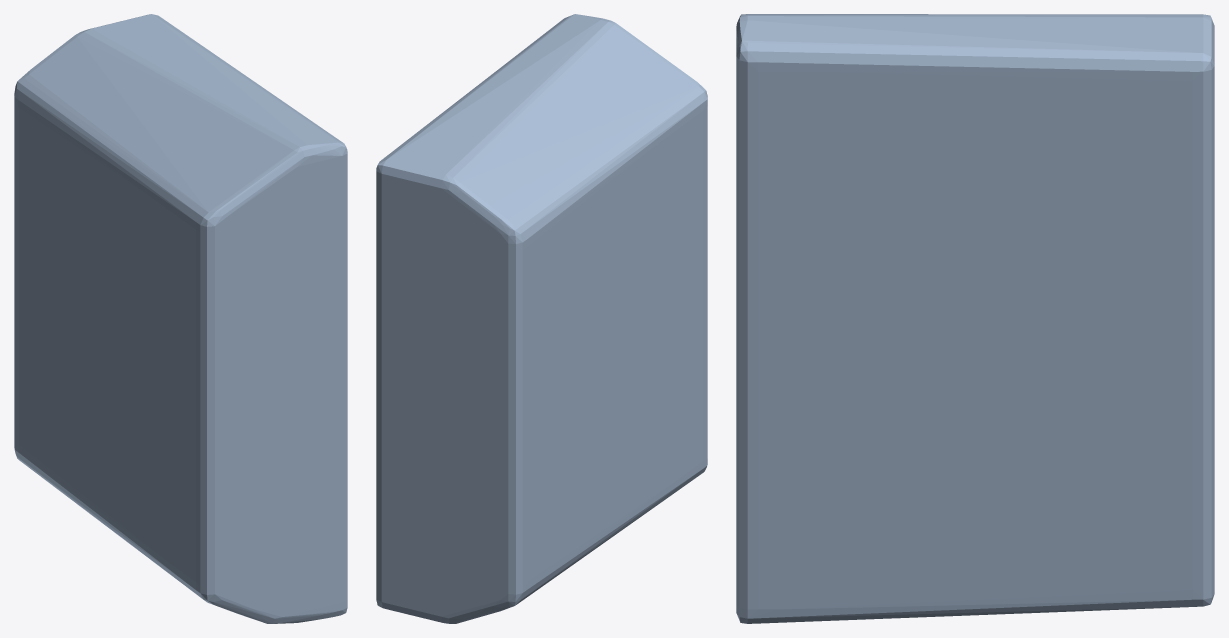
Rendered from right_th_proximal_part_6.obj.
The picture shows the model from 3 angles, left to right: view 1: azimuth 30°, elevation 25°; view 2: azimuth 150°, elevation 25°; view 3: azimuth 270°, elevation 25°; orthographic projection. The views are drawn at different scales.
Size of the model in its own units: 6.8 by 21 by 15.59.
